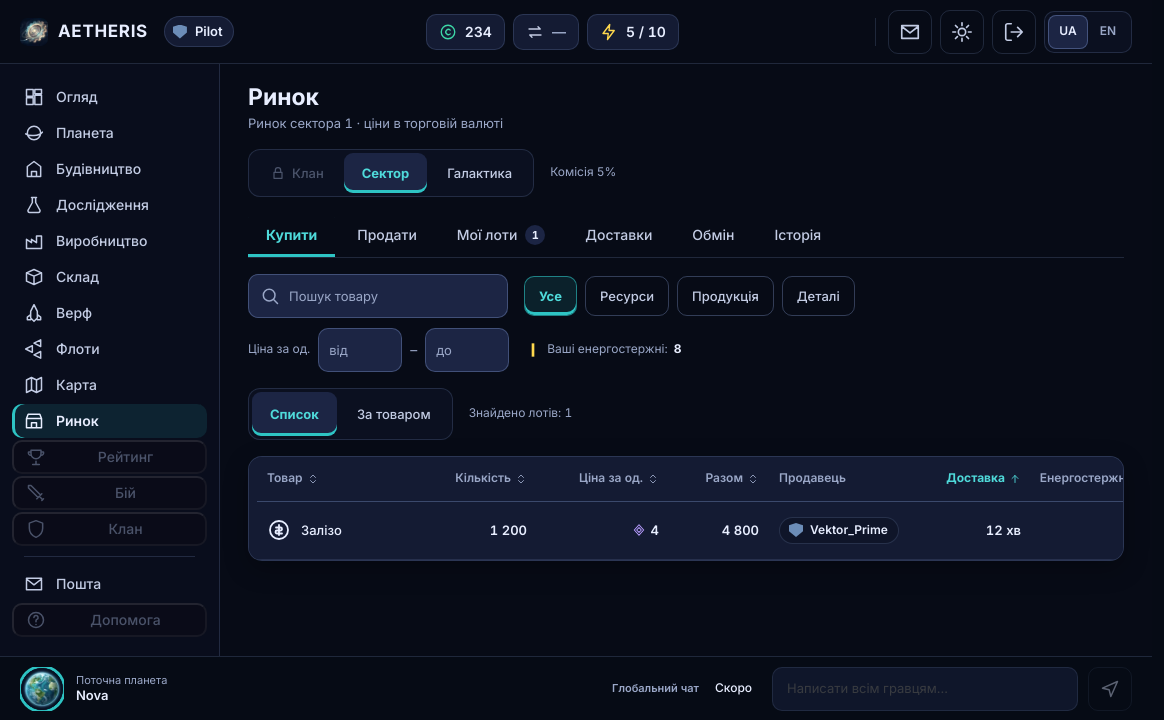
Scenario: the tab Buy › groups the lots by item and opens the lots of one item
The width and height of the screenshot is (1164, 720).
Expected: the table named "Лоти для купівлі" is shown, [257,457,1124,560]
Click the button "За товаром". click: click(394, 414)
box: [339,392,449,436]
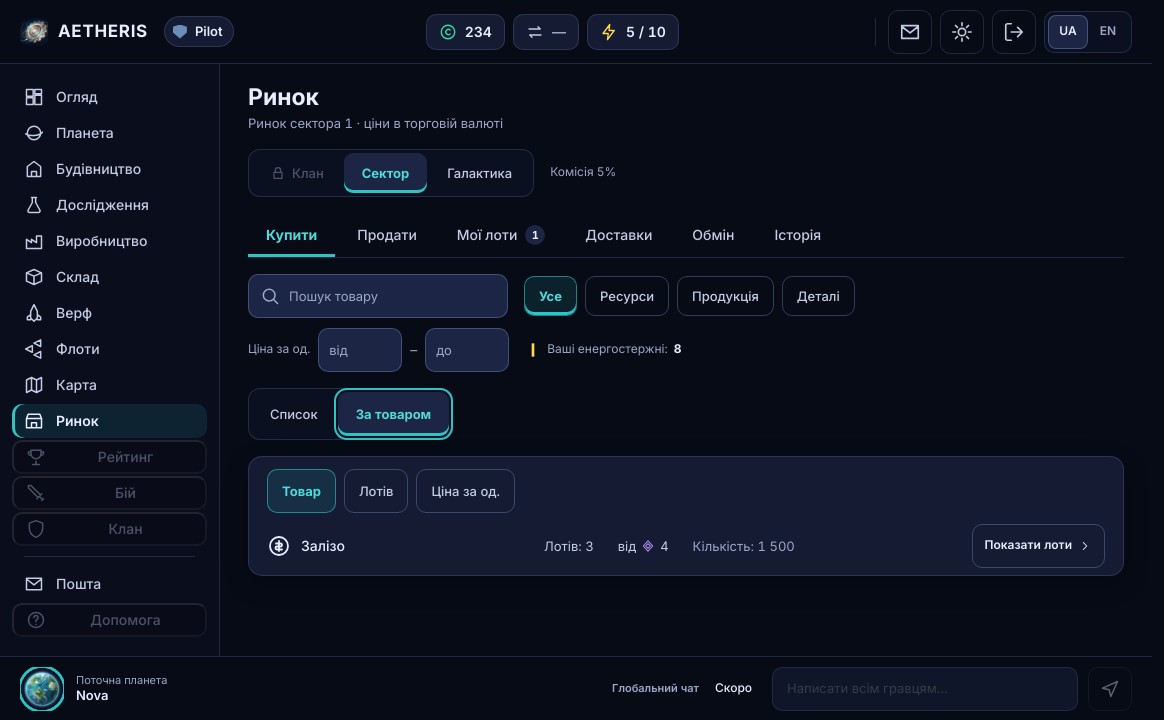
Now the text "Лотів: 3" is shown, box [544,536,594,555]
Click the button with aria-label "Показати лоти: Залізо". click: click(1038, 546)
box: [972,524,1105,568]
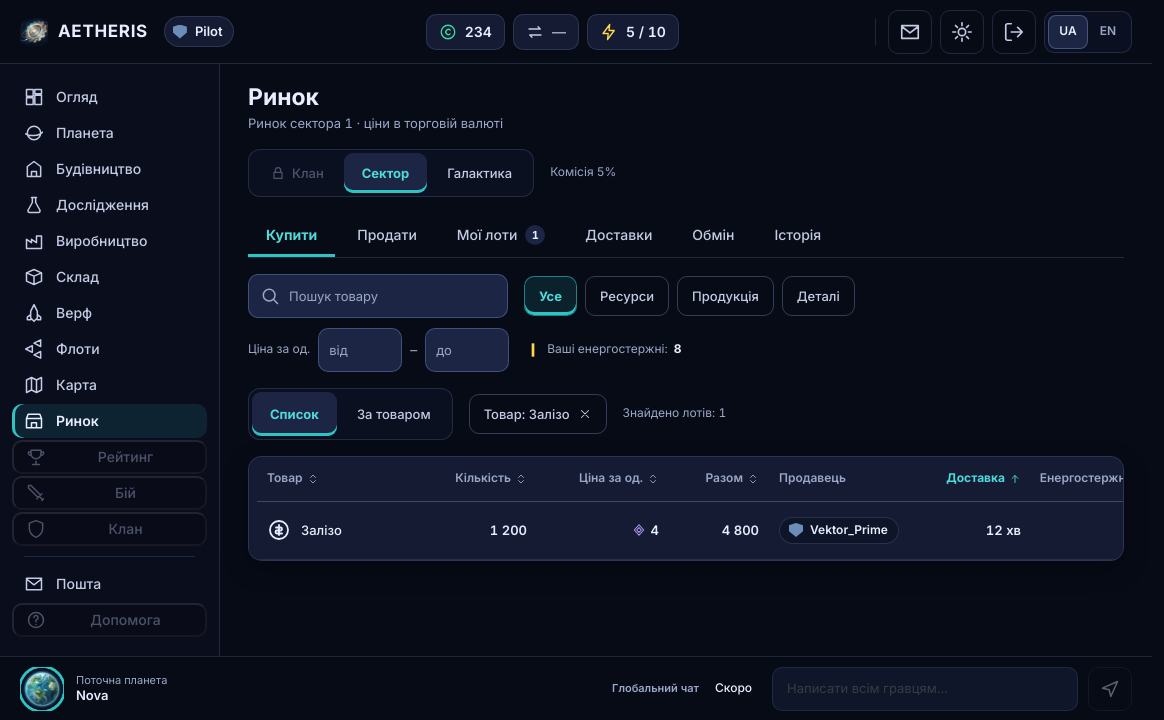
Now the table named "Лоти для купівлі" is shown, box [257,457,1124,560]
Now the button "Товар: Залізо" is shown, box [469,394,606,434]
